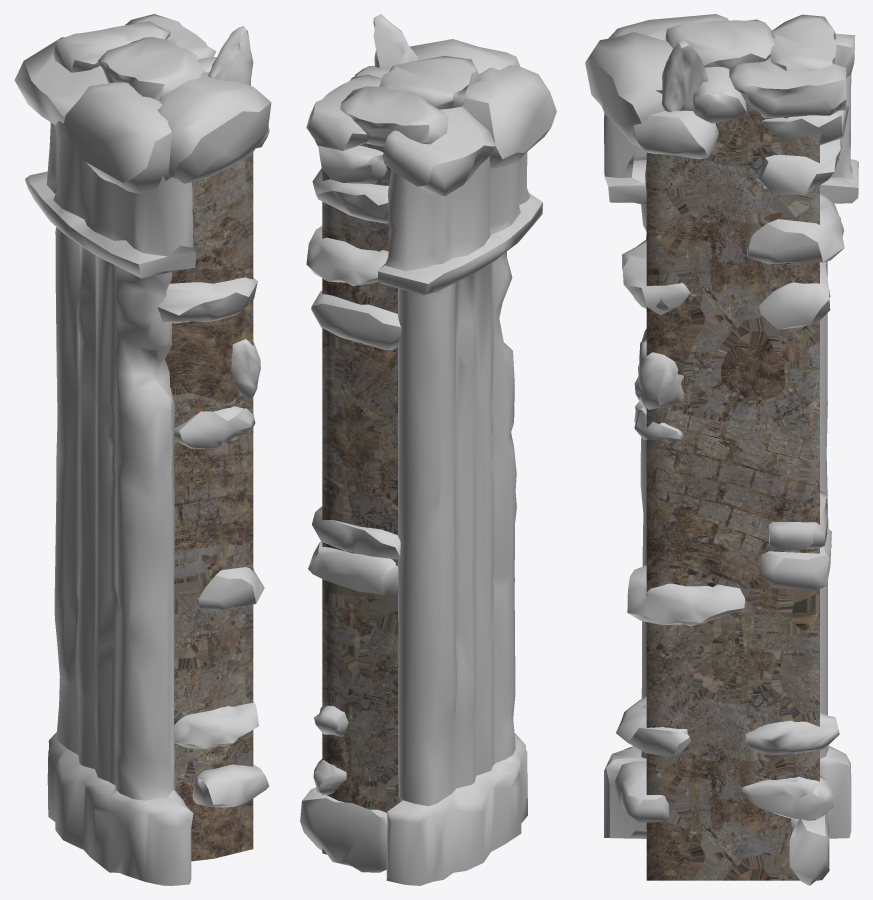
File: SM_WallArch06.FBX
3 renders of one model, left to right at view 1: azimuth 30°, elevation 25°; view 2: azimuth 150°, elevation 25°; view 3: azimuth 270°, elevation 25°, orthographic. The views are drawn at different scales.
Parts seen in each view (by area): view 1: SM_WallArch06; view 2: SM_WallArch06; view 3: SM_WallArch06.
Boxes of the visible parts, x1=… form: SM_WallArch06: x1=14, y1=14, x2=271, y2=885; SM_WallArch06: x1=300, y1=14, x2=556, y2=885; SM_WallArch06: x1=585, y1=14, x2=858, y2=885.
Bounding box in the file's own units: 180 × 233 × 799.
